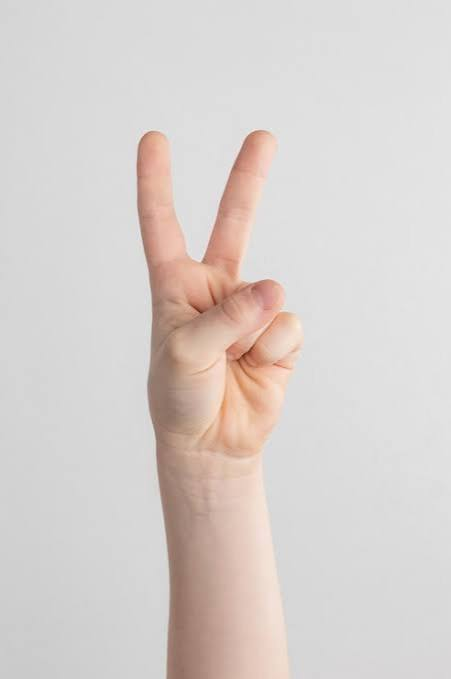peace_sign: (134, 114, 304, 452)
